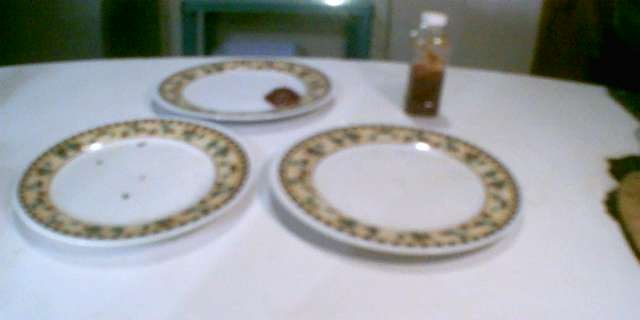empty_plate: (267, 117, 532, 263), (6, 111, 260, 254)
ketchup_bottle: (393, 3, 460, 122)
ketchup_portion: (258, 82, 304, 111)
